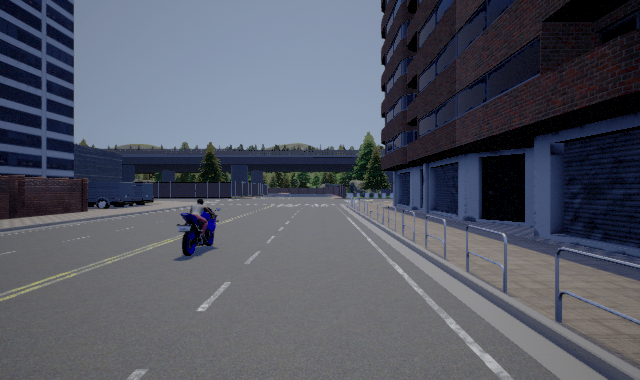motobike: (176, 200, 222, 256)
vehicle: (88, 181, 154, 209)
